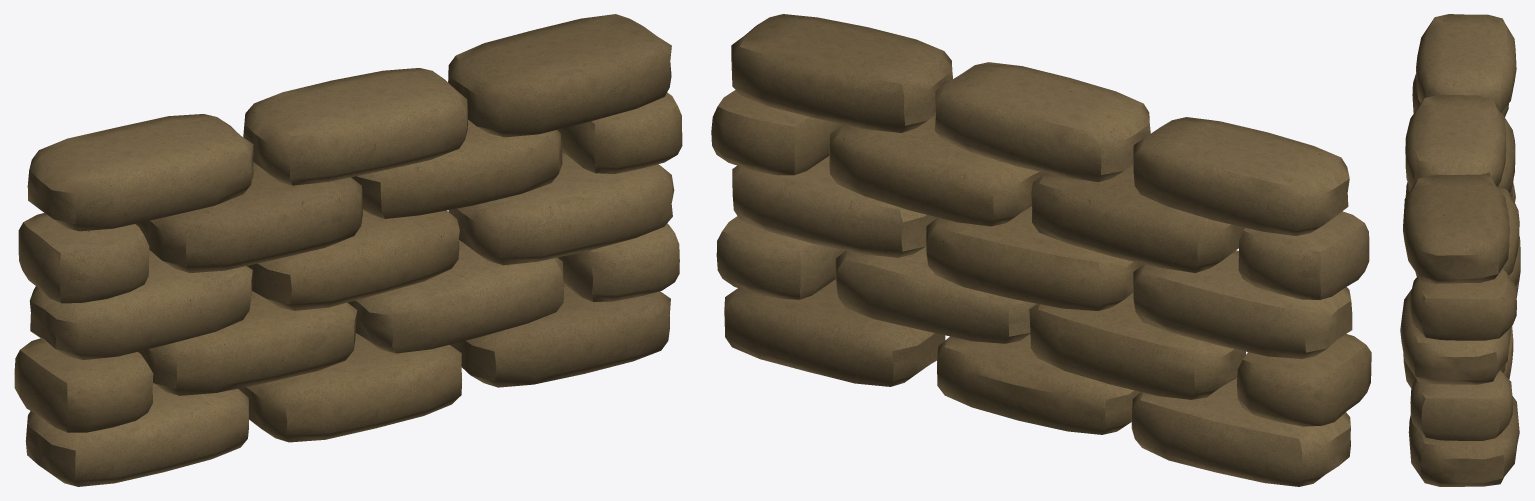
Rendered from sandbags.glb.
3 views of the same model, side by side, from view 1: azimuth 30°, elevation 25°; view 2: azimuth 150°, elevation 25°; view 3: azimuth 270°, elevation 25° (orthographic). The views are drawn at different scales.
Parts seen in each view (by area): view 1: sandbags; view 2: sandbags; view 3: sandbags.
Part boxes in pixels (<box>): sandbags: <box>14,14,682,486</box>; sandbags: <box>711,14,1371,486</box>; sandbags: <box>1400,14,1520,486</box>.
Bounding box in the file's own units: 2 × 0.9542 × 0.414.
3 materials, 3 textured.
